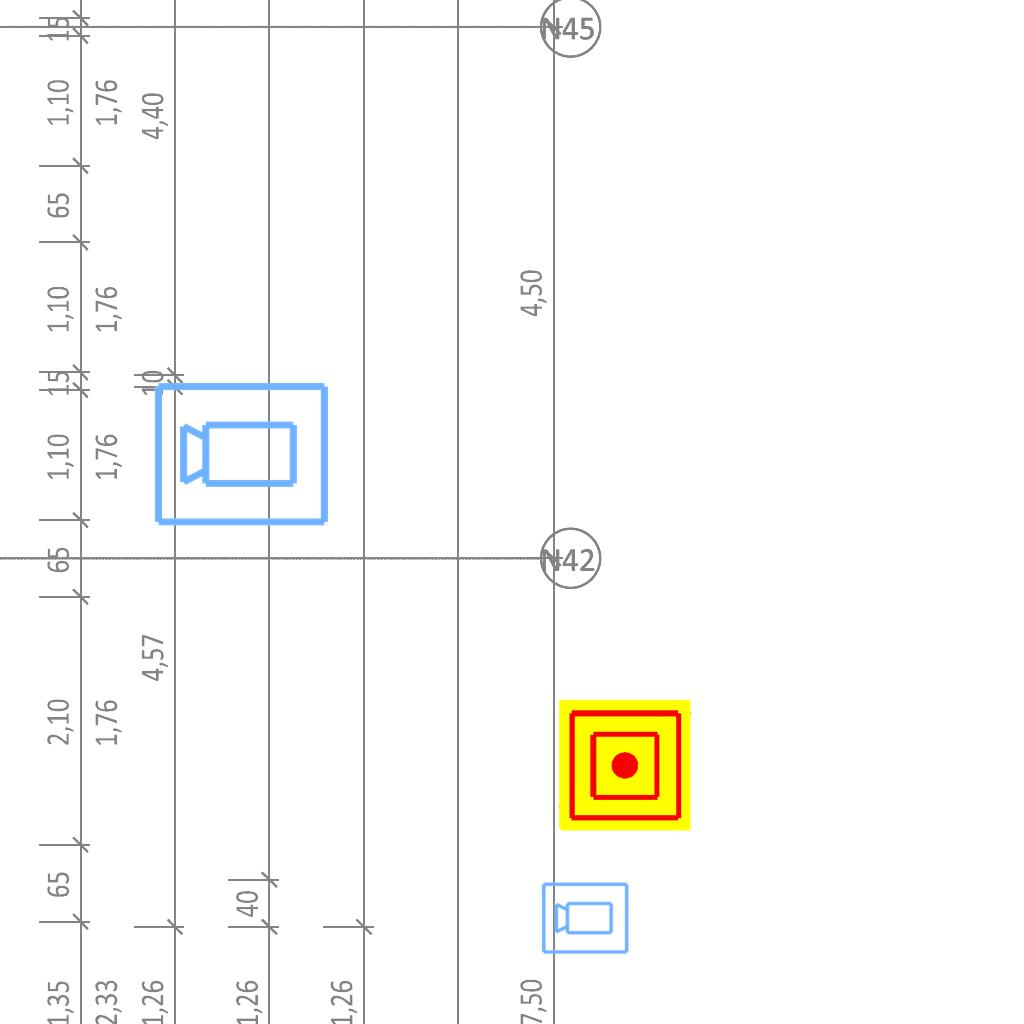KFO_Kamera_mit_Festobjektiv: (151, 376, 333, 530), (540, 879, 631, 956)
NAM-Nichtautomatischer_Melder: (559, 699, 691, 831)
